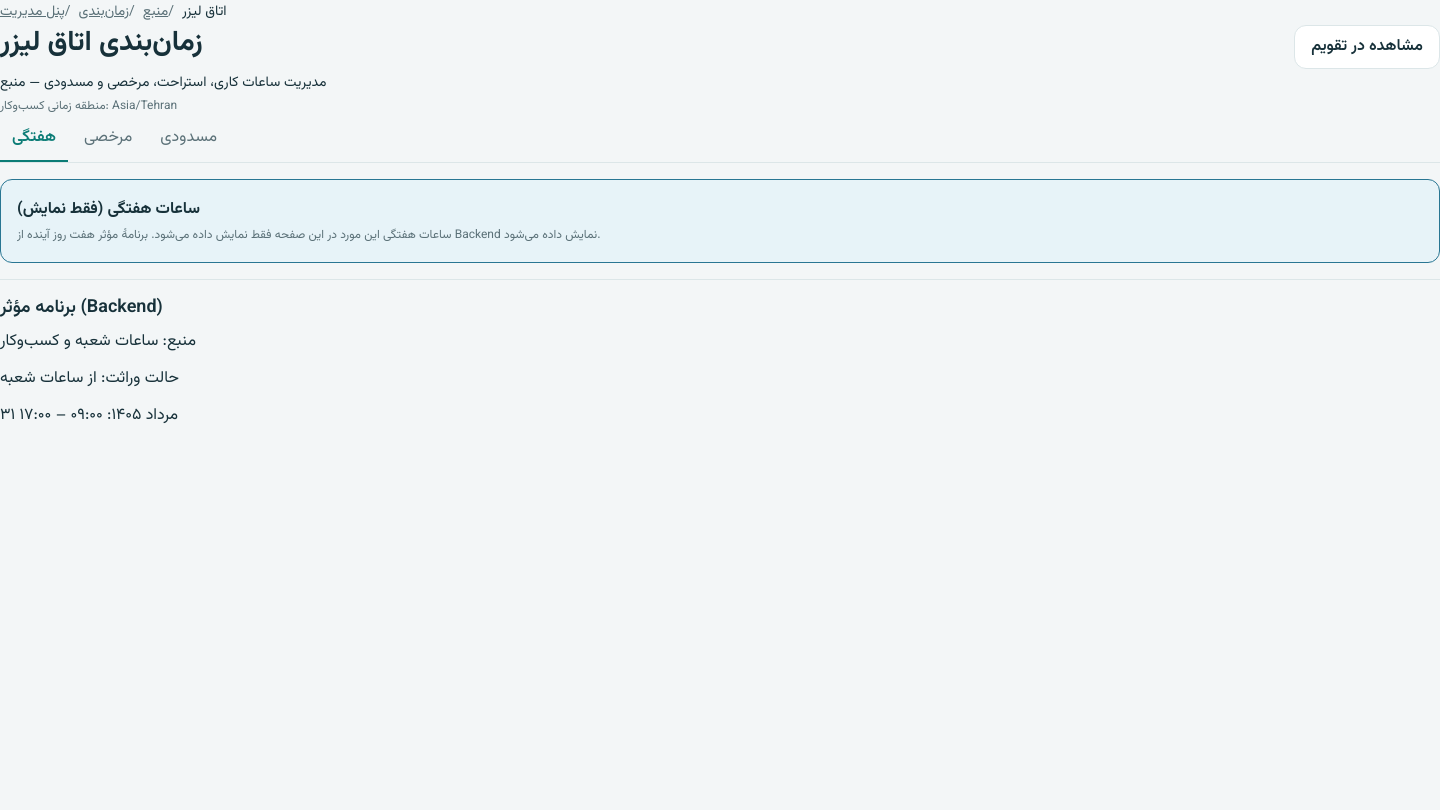
Scenario: resource blocking (Backend blocked-times contract) › releases only the chosen block after confirmation
The image size is (1440, 810).
Click the tab "مسدودی" at (189,140), box [148,118,229,162]
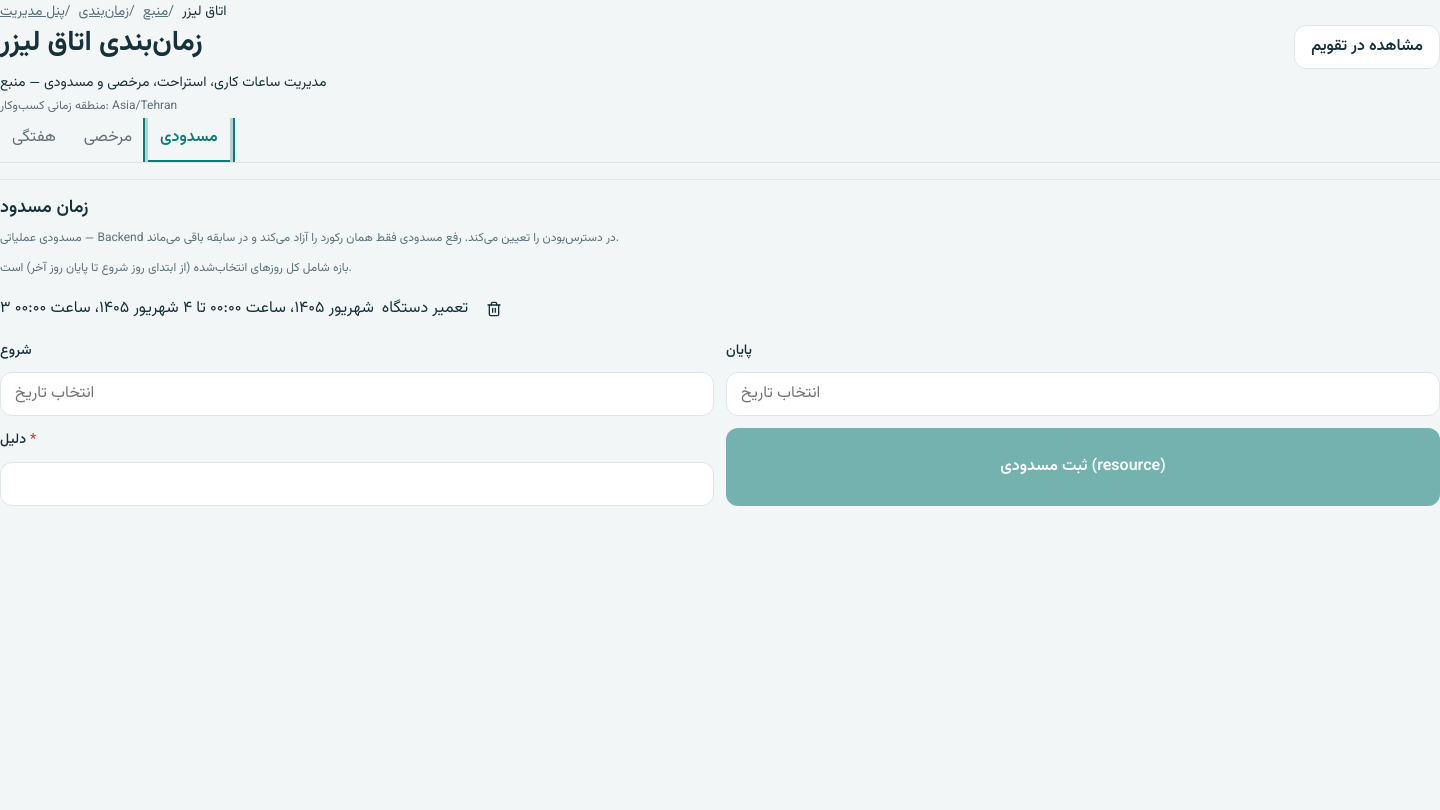
Click the button named "رفع مسدودی" at (494,309), box [476,291,512,327]
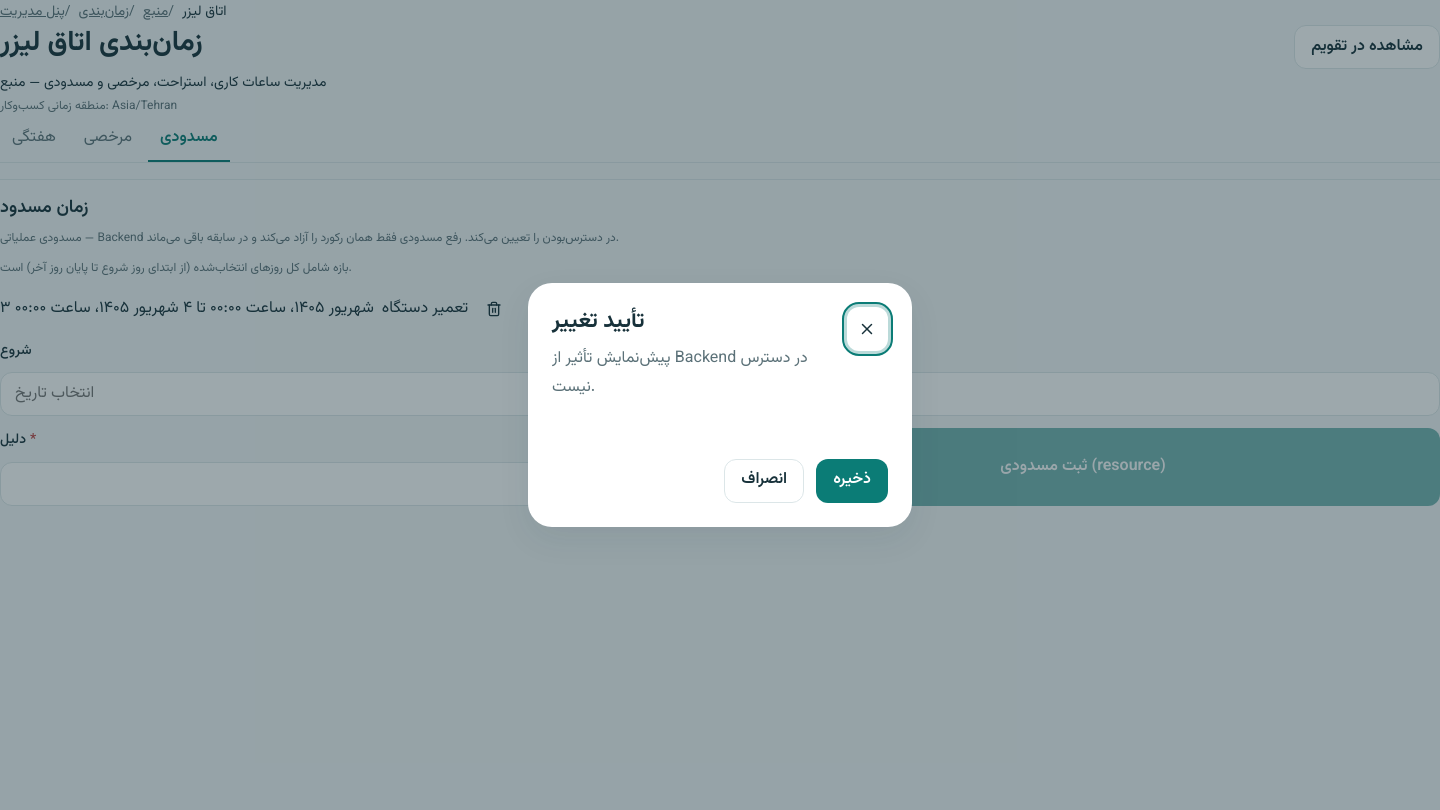
Click the button "ذخیره" at (852,481), box [816,459,888,503]
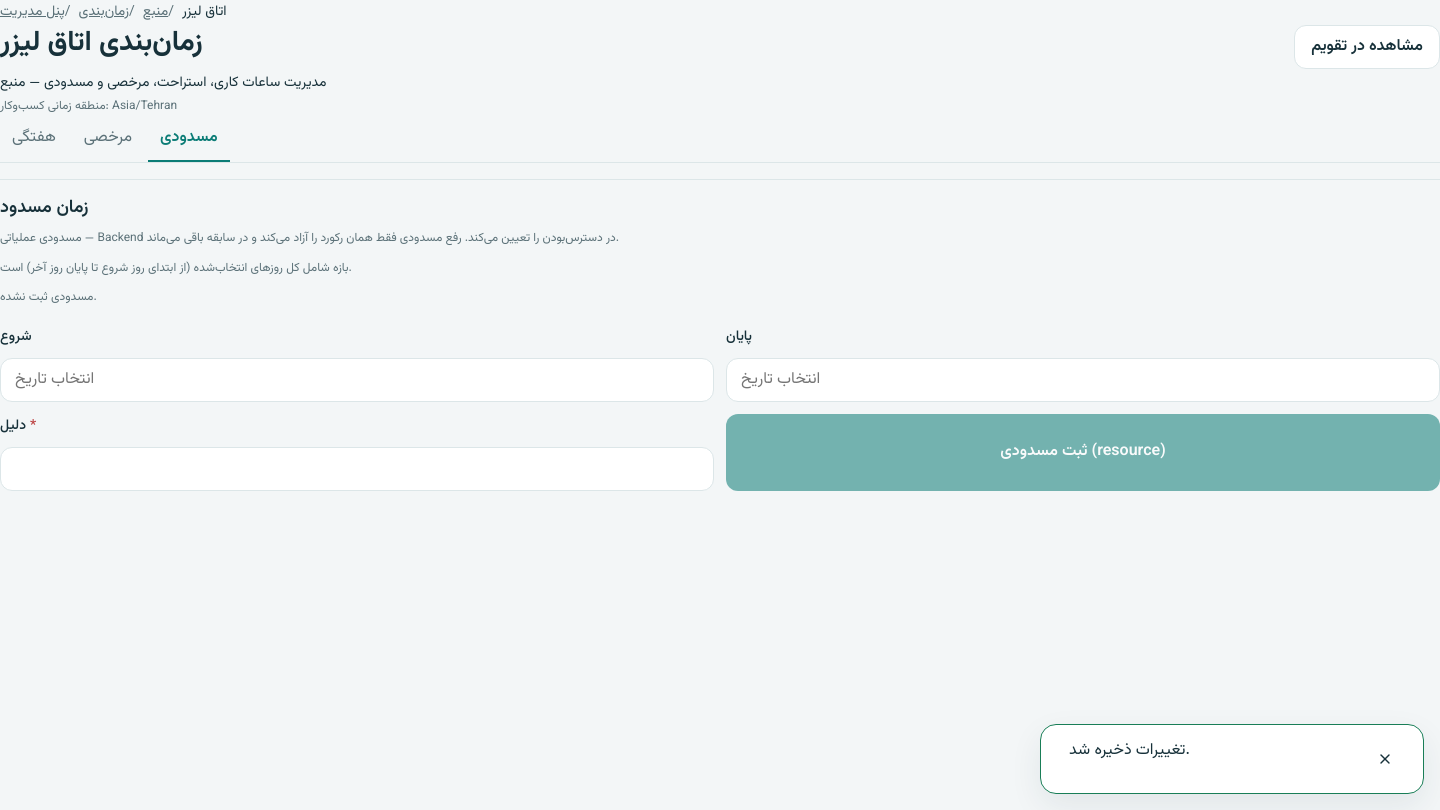
expect the text "تعمیر دستگاه" is gone: met
expect the text "مسدودی ثبت نشده." is shown: met, box [0,288,97,306]
